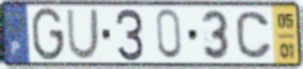0: (154, 7, 184, 63)
3: (113, 6, 145, 63), (200, 8, 232, 62)
C: (234, 9, 274, 61)
G: (30, 6, 66, 63)
U: (65, 8, 101, 62)
